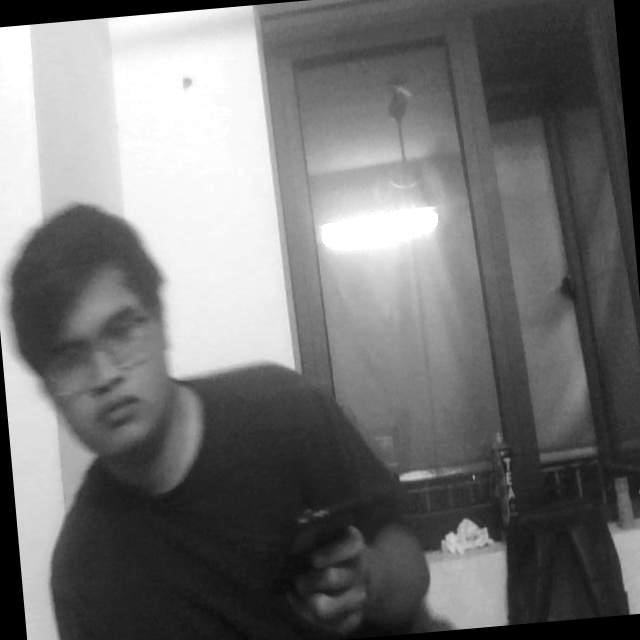phone: (284, 494, 372, 628)
